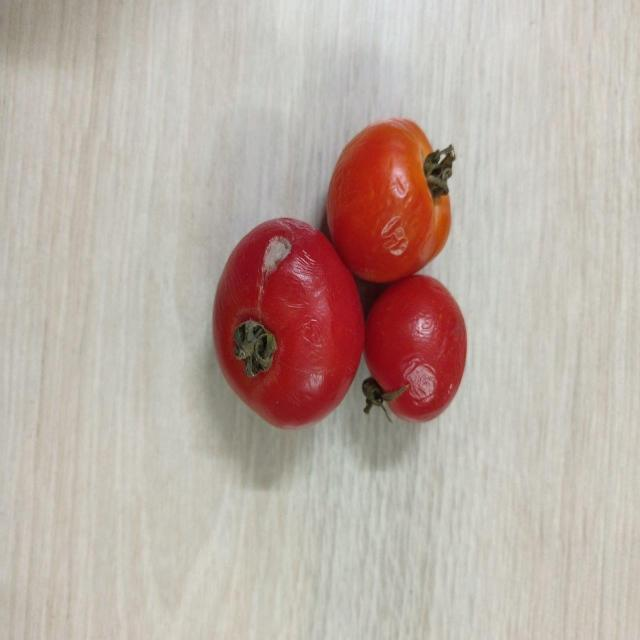Rotten: (212, 213, 366, 426)
overripe: (329, 117, 453, 283), (369, 274, 468, 421)
